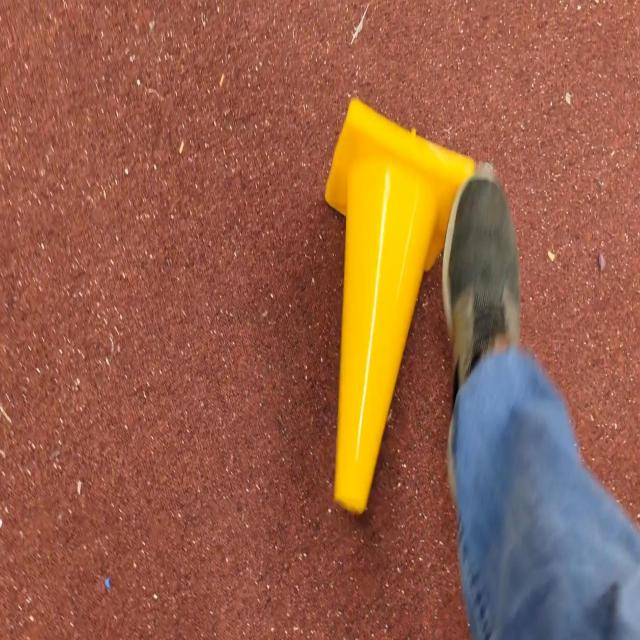frc_cone: (316, 100, 479, 549)
